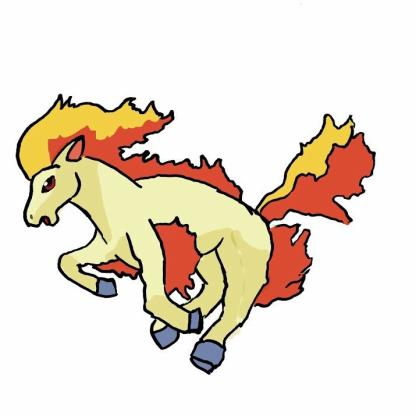Ponyta: (10, 66, 395, 382)
